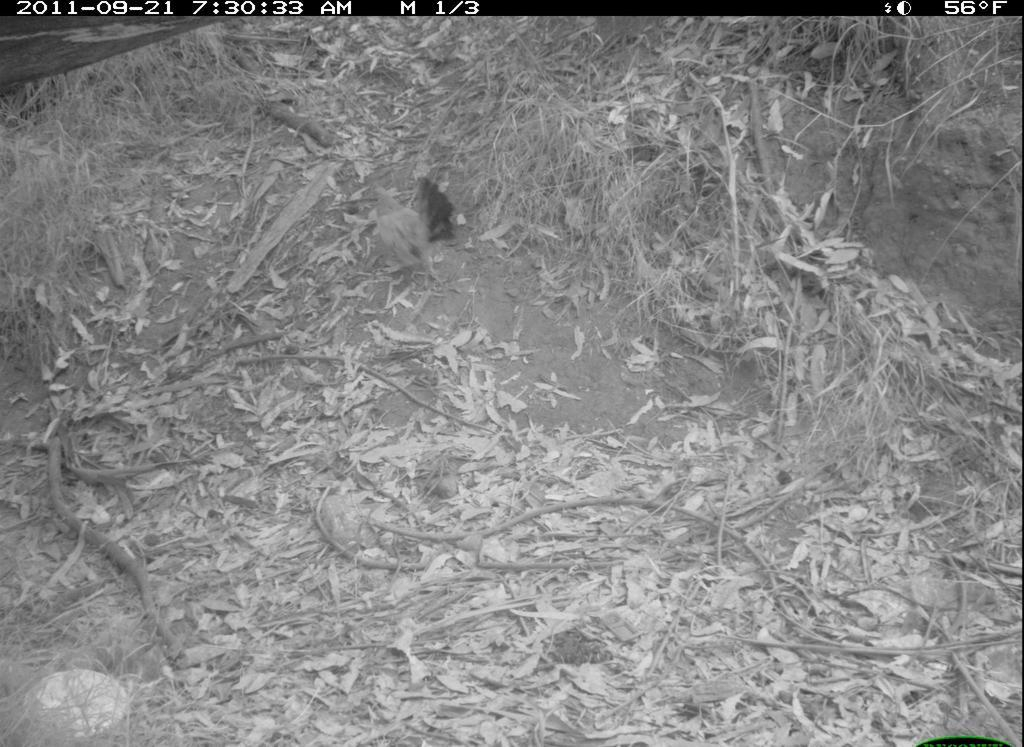bird: (360, 146, 450, 295)
